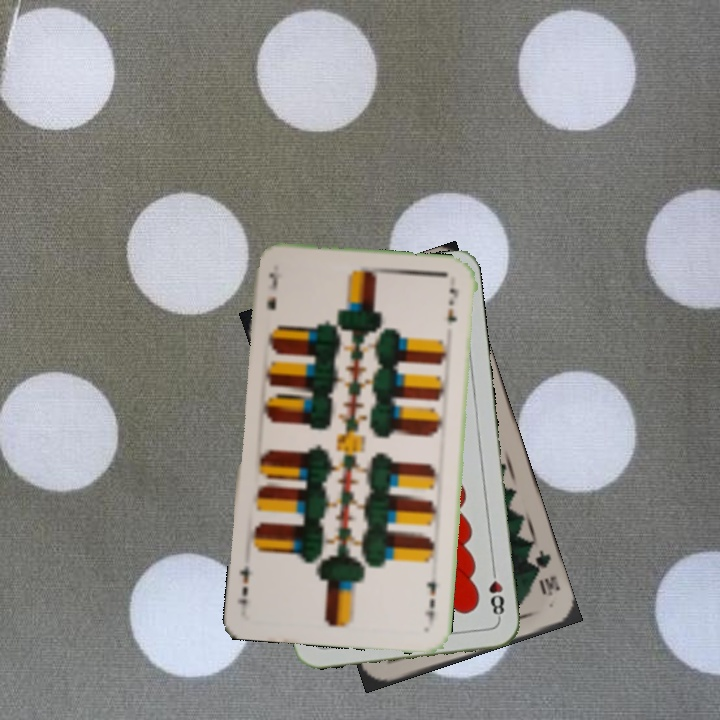E7: (421, 576, 439, 627), (263, 268, 281, 312)
G10: (526, 545, 563, 599)
H8: (485, 563, 507, 622)
